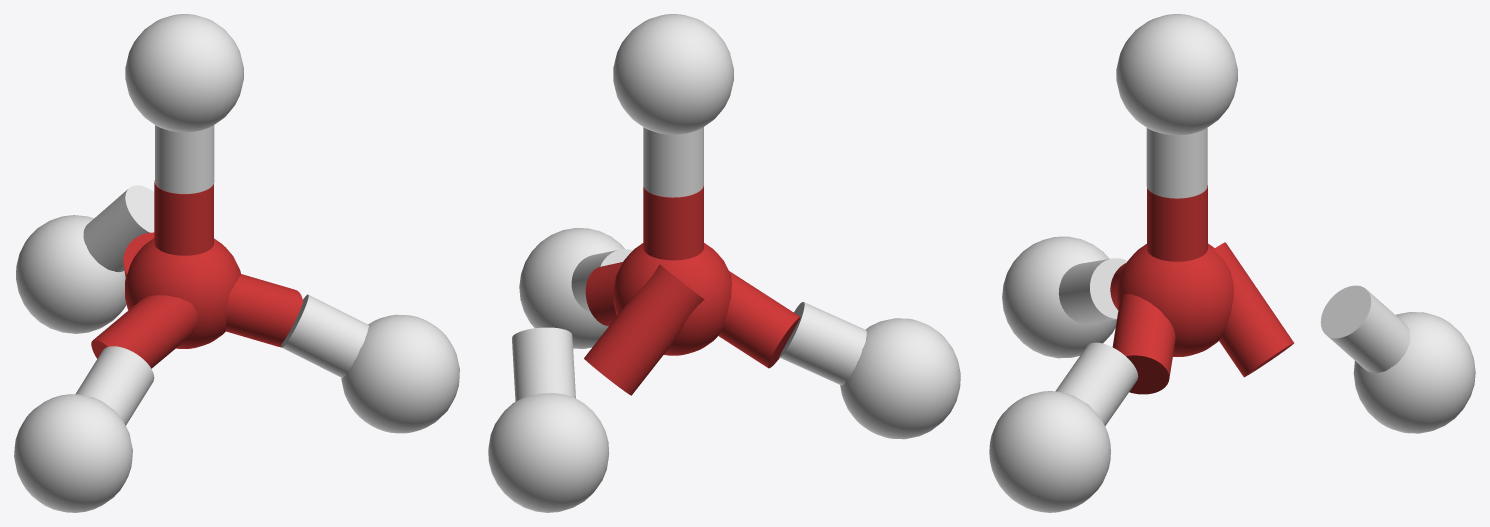
File: Atom Shape 4 - Tetrahedral.glb
The picture shows the model from 3 angles, left to right: view 1: azimuth 30°, elevation 25°; view 2: azimuth 150°, elevation 25°; view 3: azimuth 270°, elevation 25°; orthographic projection. The views are drawn at different scales.
Parts seen in each view (by area): view 1: Sphere_1_3, Sphere_1, Sphere_1_4, Sphere_1_2, Sphere, Cylinder_1, Cylinder_2_5, Cylinder, Cylinder_2_2, Cylinder_3, Cylinder_2, Cylinder_2_3 (+1 smaller); view 2: Sphere_1, Sphere_1_2, Sphere_1_3, Cylinder_2_4, Sphere_1_4, Sphere, Cylinder_2_3, Cylinder_1, Cylinder_2_2, Cylinder_3, Cylinder_2, Cylinder (+1 smaller); view 3: Sphere_1_4, Sphere_1, Sphere_1_2, Sphere_1_3, Sphere, Cylinder_2_2, Cylinder_2_4, Cylinder, Cylinder_2, Cylinder_3, Cylinder_2_5, Cylinder_2_3.
Boxes of the visible parts, x1,y1,x2,y2 form: Sphere_1_3: (14, 394, 132, 512); Sphere_1: (125, 14, 243, 132); Sphere_1_4: (341, 314, 459, 433); Sphere_1_2: (16, 215, 126, 333); Sphere: (125, 238, 240, 348); Cylinder_1: (91, 295, 197, 368); Cylinder_2_5: (281, 294, 368, 377); Cylinder: (226, 274, 302, 347); Cylinder_2_2: (83, 185, 154, 271); Cylinder_3: (154, 180, 213, 255); Cylinder_2: (155, 125, 214, 193); Cylinder_2_3: (75, 346, 154, 425); Sphere_1: (613, 14, 733, 134); Sphere_1_2: (488, 393, 609, 512); Sphere_1_3: (840, 318, 960, 439); Cylinder_2_4: (584, 264, 704, 395); Sphere_1_4: (519, 228, 624, 348); Sphere: (613, 243, 731, 355); Cylinder_2_3: (779, 302, 866, 385); Cylinder_1: (718, 271, 800, 368); Cylinder_2_2: (512, 327, 575, 401); Cylinder_3: (643, 185, 703, 260); Cylinder_2: (643, 127, 703, 197); Cylinder: (585, 262, 622, 326); Sphere_1_4: (989, 391, 1110, 512); Sphere_1: (1116, 14, 1237, 135); Sphere_1_2: (1353, 312, 1475, 433); Sphere_1_3: (1002, 236, 1116, 358); Sphere: (1117, 243, 1233, 356); Cylinder_2_2: (1320, 285, 1410, 372); Cylinder_2_4: (1213, 242, 1293, 377); Cylinder: (1112, 294, 1175, 394); Cylinder_2: (1146, 128, 1207, 198); Cylinder_3: (1147, 185, 1207, 261); Cylinder_2_5: (1055, 342, 1138, 425); Cylinder_2_3: (1058, 258, 1127, 323).
Size of the model in its own units: 821 by 753 by 797.
